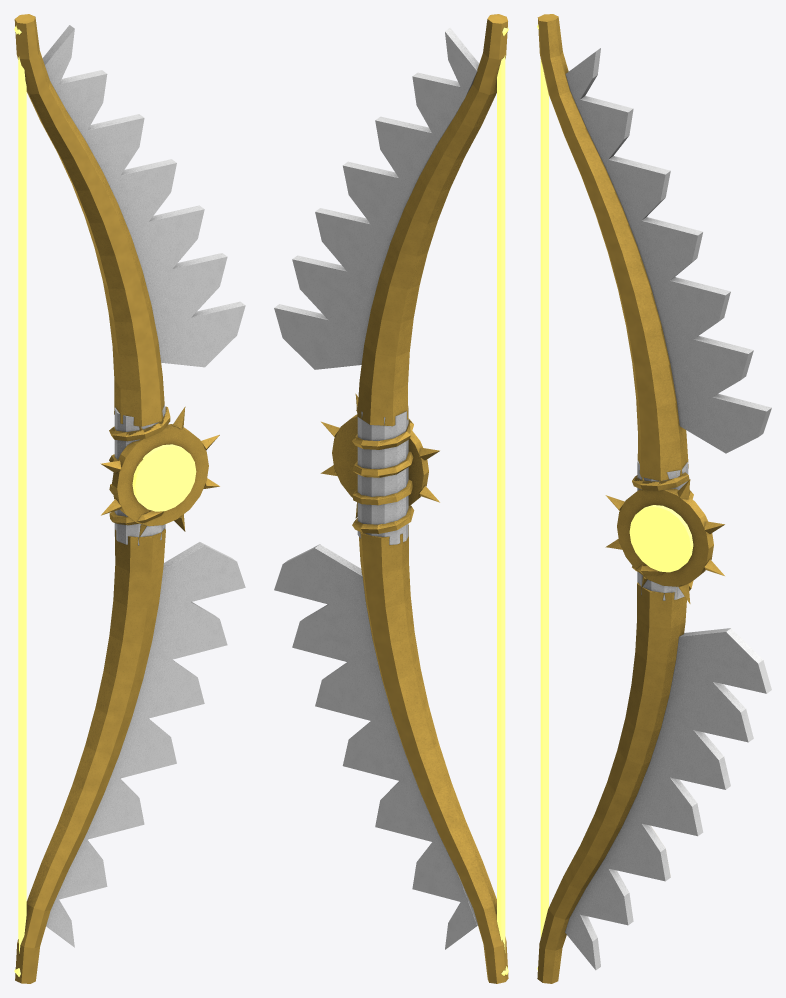
The model's file is 08_heaven_ranged.fbx.
The picture shows the model from 3 angles, left to right: view 1: azimuth 30°, elevation 25°; view 2: azimuth 150°, elevation 25°; view 3: azimuth 330°, elevation 25°; orthographic projection.
Visible parts, largest first — view 1: Weapon; view 2: Weapon; view 3: Weapon.
Boxes of the visible parts, x1,y1,x2,y2 form: Weapon: (14,14,245,983); Weapon: (274,14,508,983); Weapon: (537,14,771,983).
Bounding box in the file's own units: 34.78 × 140 × 7.37.
2 materials, 1 textured.
